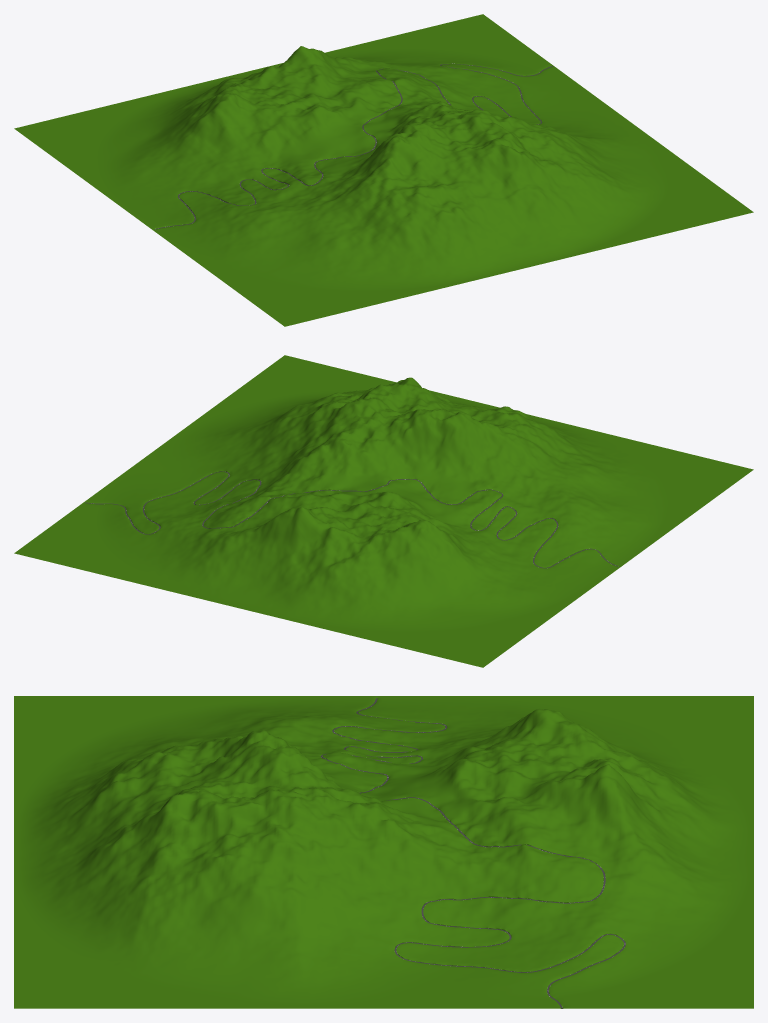
File: Level3.fbx
The picture shows the model from 3 angles, top to bottom: view 1: azimuth 30°, elevation 25°; view 2: azimuth 150°, elevation 25°; view 3: azimuth 270°, elevation 25°; orthographic projection. The views are drawn at different scales.
Visible parts, largest first — view 1: Road; view 2: Road; view 3: Road.
Boxes of the visible parts, left/top/right/bottom form: Road: left=14, top=14, right=753, bottom=326; Road: left=14, top=355, right=753, bottom=667; Road: left=14, top=696, right=753, bottom=1008.
Bounding box in the file's own units: 37911 × 249990 × 249990.
